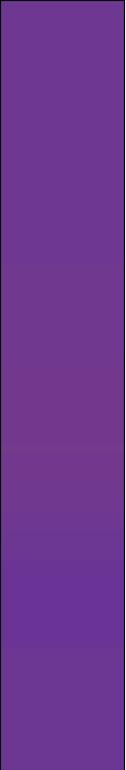safe: (10, 10, 105, 760)
